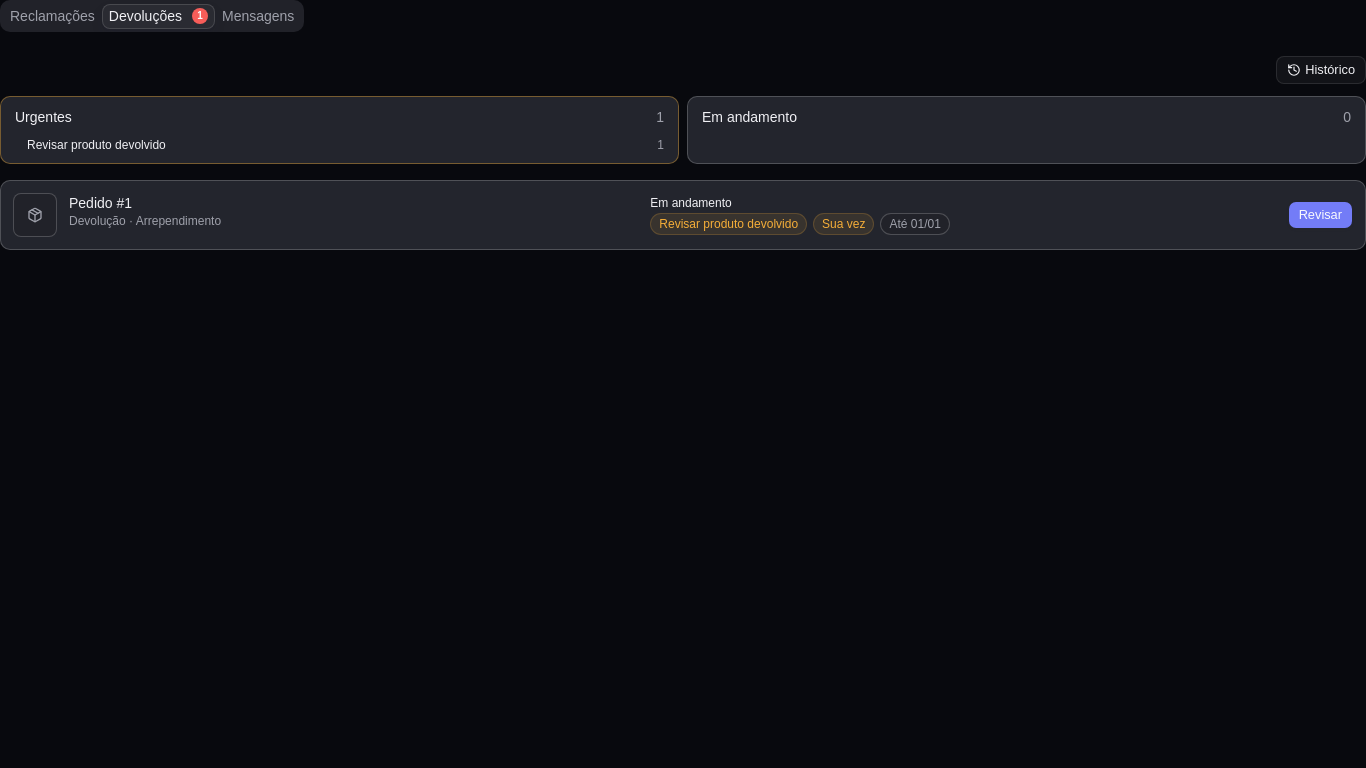
Test: 6. produto carrega depois de abrir a revisão › o diálogo mostra o produto quando a consulta resolve
Step 1. Click the button "Revisar" → (1320, 215), box [1288,201,1353,229]
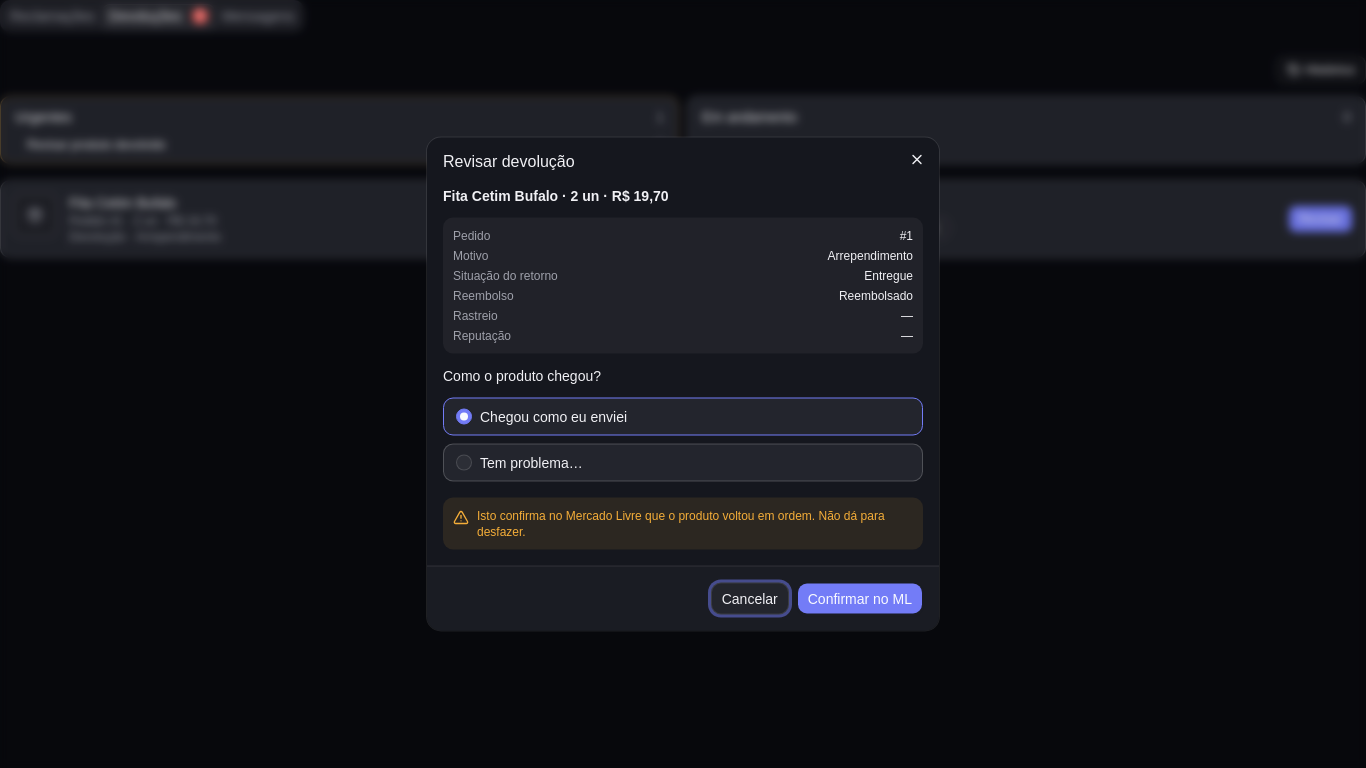
expect the text "Fita Cetim Bufalo · 2 un · R$ 19,70" is shown: met, box [443,188,669,204]
